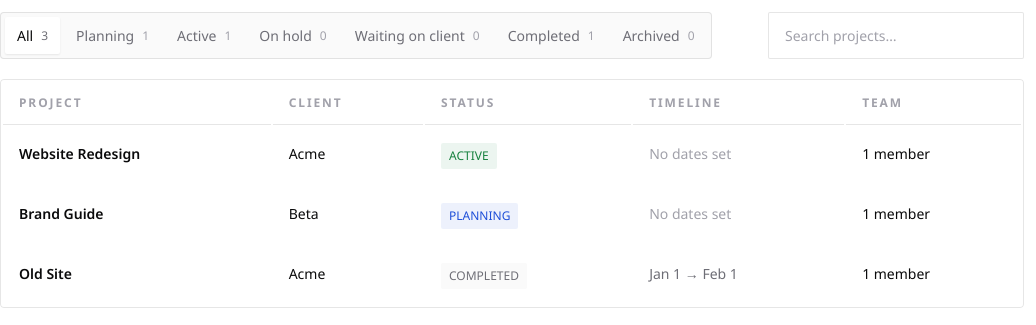
Scenario: ProjectsTable › filters by the status tabs
This screenshot has width=1036, height=325.
Click the tab "Planning 1": (112, 36) [64,17,161,54]
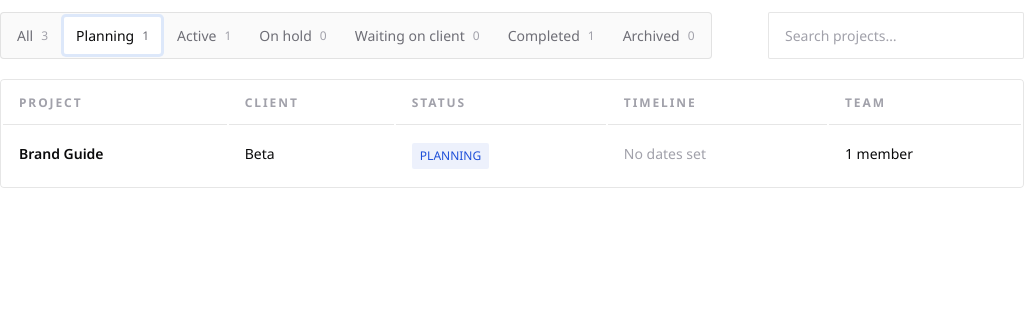
Check: the text "Brand Guide" is shown, box [19,144,104,163]
Check: the link "Website Redesign" is gone
